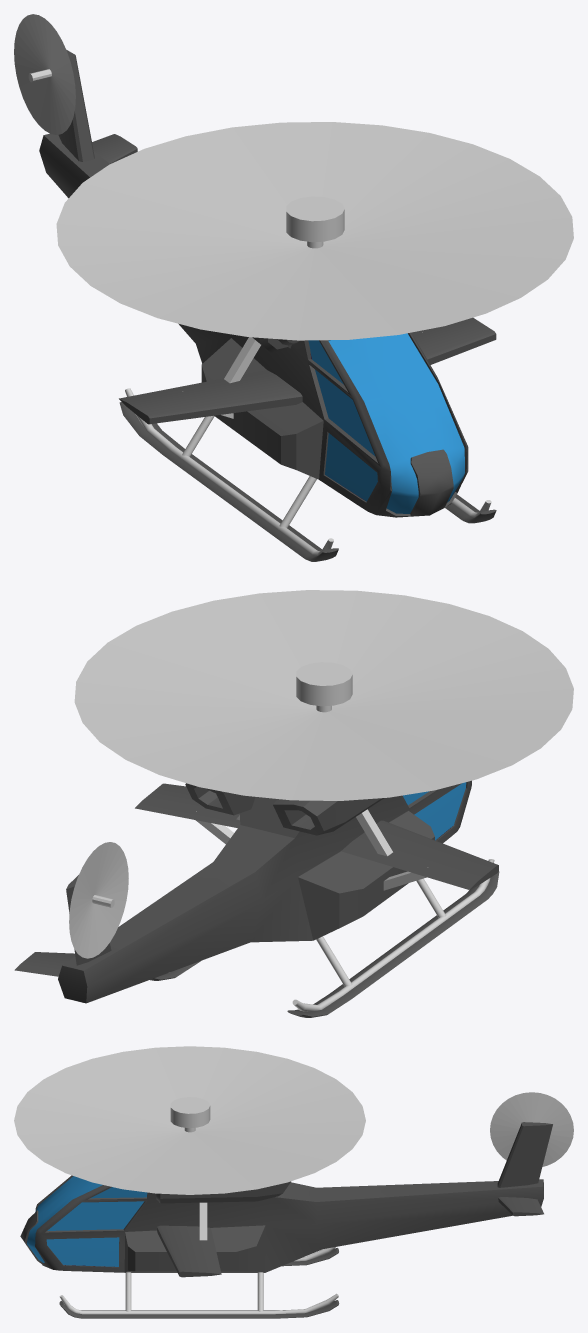
Rendered from Helicopter.fbx.
3 views of the same model, one above another, from view 1: azimuth 30°, elevation 25°; view 2: azimuth 150°, elevation 25°; view 3: azimuth 270°, elevation 25° (orthographic). The views are drawn at different scales.
Visible parts, largest first — view 1: Plane, Cube.002, Plane.001, Cube; view 2: Plane, Cube.002, Plane.001, Cube; view 3: Plane, Cube.002, Cube, Plane.001.
Boxes of the visible parts, x1,y1,x2,y2 form: Plane: (56,122,573,340); Cube.002: (39,133,496,561); Plane.001: (14,14,75,134); Cube: (28,50,344,248); Plane: (74,590,573,800); Cube.002: (58,780,499,1017); Plane.001: (69,842,128,958); Cube: (14,662,352,976); Plane: (14,1046,365,1194); Cube.002: (20,1175,543,1318); Cube: (170,1097,552,1216); Plane.001: (490,1092,573,1166).
Size of the model in its own units: 593 by 357 by 943.
